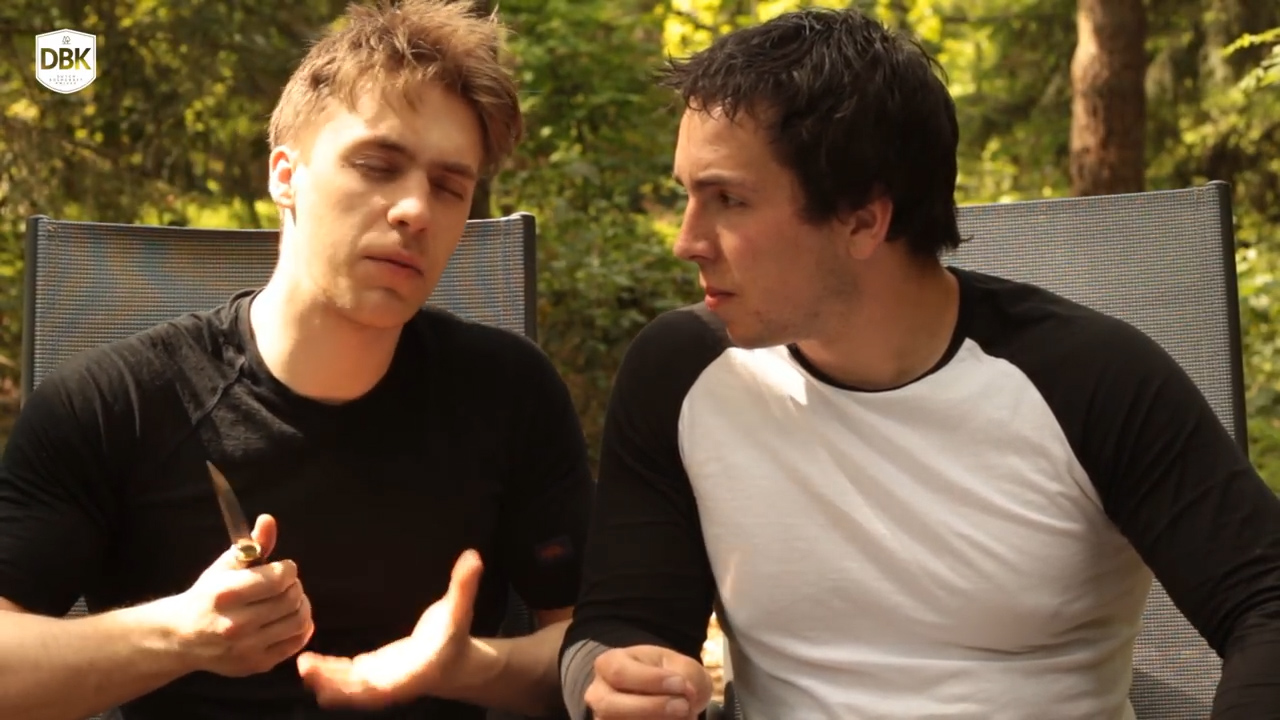knife: (184, 439, 327, 624)
